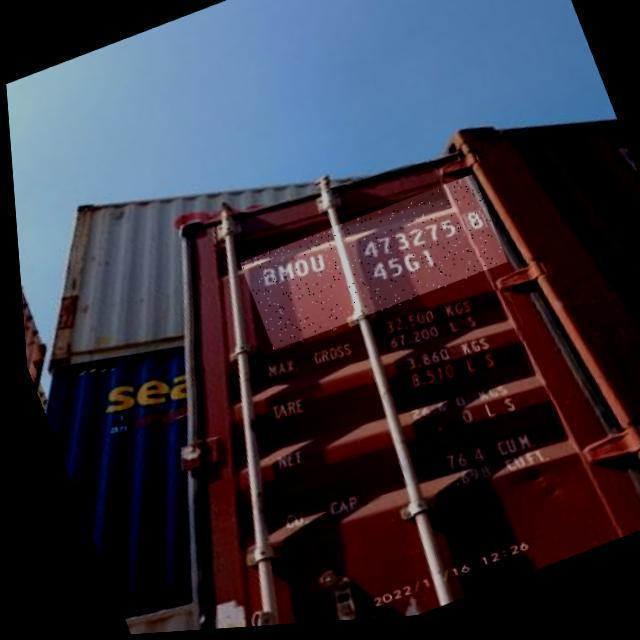ISO: (355, 243, 443, 286)
container_number: (256, 204, 492, 286)
